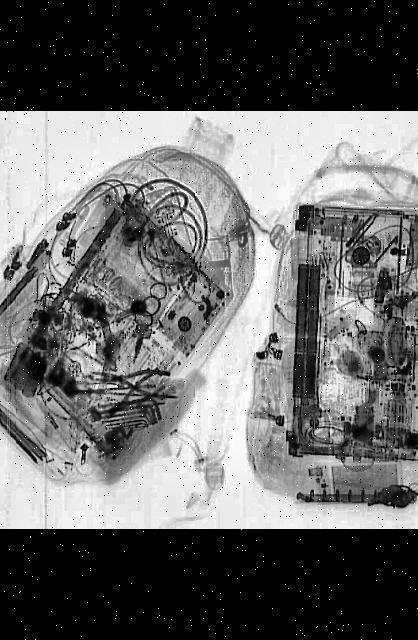Pliers: (96, 368, 170, 420), (85, 361, 181, 399)
